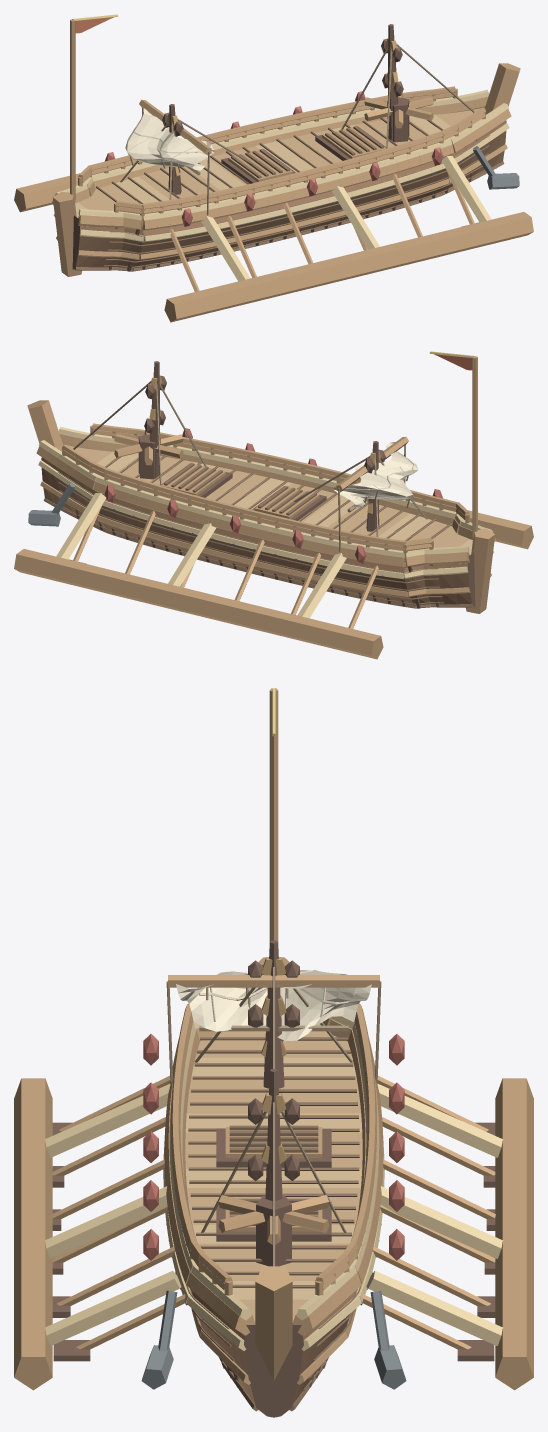
Rendered from coracora-v5-mobile.glb.
3 renders of one model, top to bottom at view 1: azimuth 30°, elevation 25°; view 2: azimuth 150°, elevation 25°; view 3: azimuth 270°, elevation 25°, orthographic. The views are drawn at different scales.
Visible parts, largest first — view 1: coracora_oars_wood, coracora_hull_wood, coracora_hull_pale, coracora_railings_wood, coracora_hull_seam, coracora_hull_deck, coracora_hull_hull, coracora_hull_hull2, coracora_oars_pale, coracora_sails_sail, coracora_hull_decklight, coracora_fittings_wood (+10 smaller); view 2: coracora_oars_wood, coracora_hull_wood, coracora_railings_wood, coracora_hull_pale, coracora_hull_seam, coracora_hull_deck, coracora_hull_hull, coracora_hull_hull2, coracora_oars_pale, coracora_hull_decklight, coracora_fittings_wood, coracora_sails_sail (+10 smaller); view 3: coracora_oars_wood, coracora_oars_pale, coracora_hull_deck, coracora_hull_wood, coracora_hull_seam, coracora_hull_decklight, coracora_railings_wood, coracora_hull_pale, coracora_sails_sail, coracora_masts_darkwood, coracora_fittings_darkwood, coracora_ornament_red (+13 smaller).
Boxes of the visible parts, x1,y1,x2,y2 form: coracora_oars_wood: (14, 168, 533, 322); coracora_hull_wood: (52, 63, 520, 276); coracora_hull_pale: (53, 89, 509, 242); coracora_railings_wood: (78, 86, 485, 225); coracora_hull_seam: (75, 117, 504, 271); coracora_hull_deck: (78, 107, 484, 226); coracora_hull_hull: (73, 130, 506, 269); coracora_hull_hull2: (75, 107, 506, 268); coracora_oars_pale: (201, 156, 491, 281); coracora_sails_sail: (125, 108, 214, 170); coracora_hull_decklight: (75, 114, 450, 226); coracora_fittings_wood: (228, 92, 433, 181); coracora_oars_wood: (14, 505, 533, 659); coracora_hull_wood: (27, 400, 495, 613); coracora_railings_wood: (62, 423, 469, 562); coracora_hull_pale: (38, 426, 494, 579); coracora_hull_seam: (43, 454, 472, 608); coracora_hull_deck: (63, 444, 469, 563); coracora_hull_hull: (41, 467, 474, 606); coracora_hull_hull2: (41, 444, 472, 605); coracora_oars_pale: (56, 493, 346, 618); coracora_hull_decklight: (97, 451, 472, 563); coracora_fittings_wood: (114, 429, 319, 518); coracora_sails_sail: (333, 442, 418, 507); coracora_oars_wood: (14, 1075, 533, 1390); coracora_oars_pale: (44, 1084, 503, 1345); coracora_hull_deck: (185, 1024, 362, 1322); coracora_hull_wood: (164, 957, 383, 1384); coracora_hull_seam: (186, 1037, 361, 1411); coracora_hull_decklight: (185, 1057, 362, 1299); coracora_railings_wood: (171, 1003, 376, 1295); coracora_hull_pale: (163, 1016, 384, 1350); coracora_sails_sail: (176, 970, 371, 1041); coracora_masts_darkwood: (248, 940, 299, 1200); coracora_fittings_darkwood: (216, 1128, 331, 1266); coracora_ornament_red: (143, 1034, 404, 1260).
Size of the model in its own units: 42.65 by 22.53 by 25.85.
